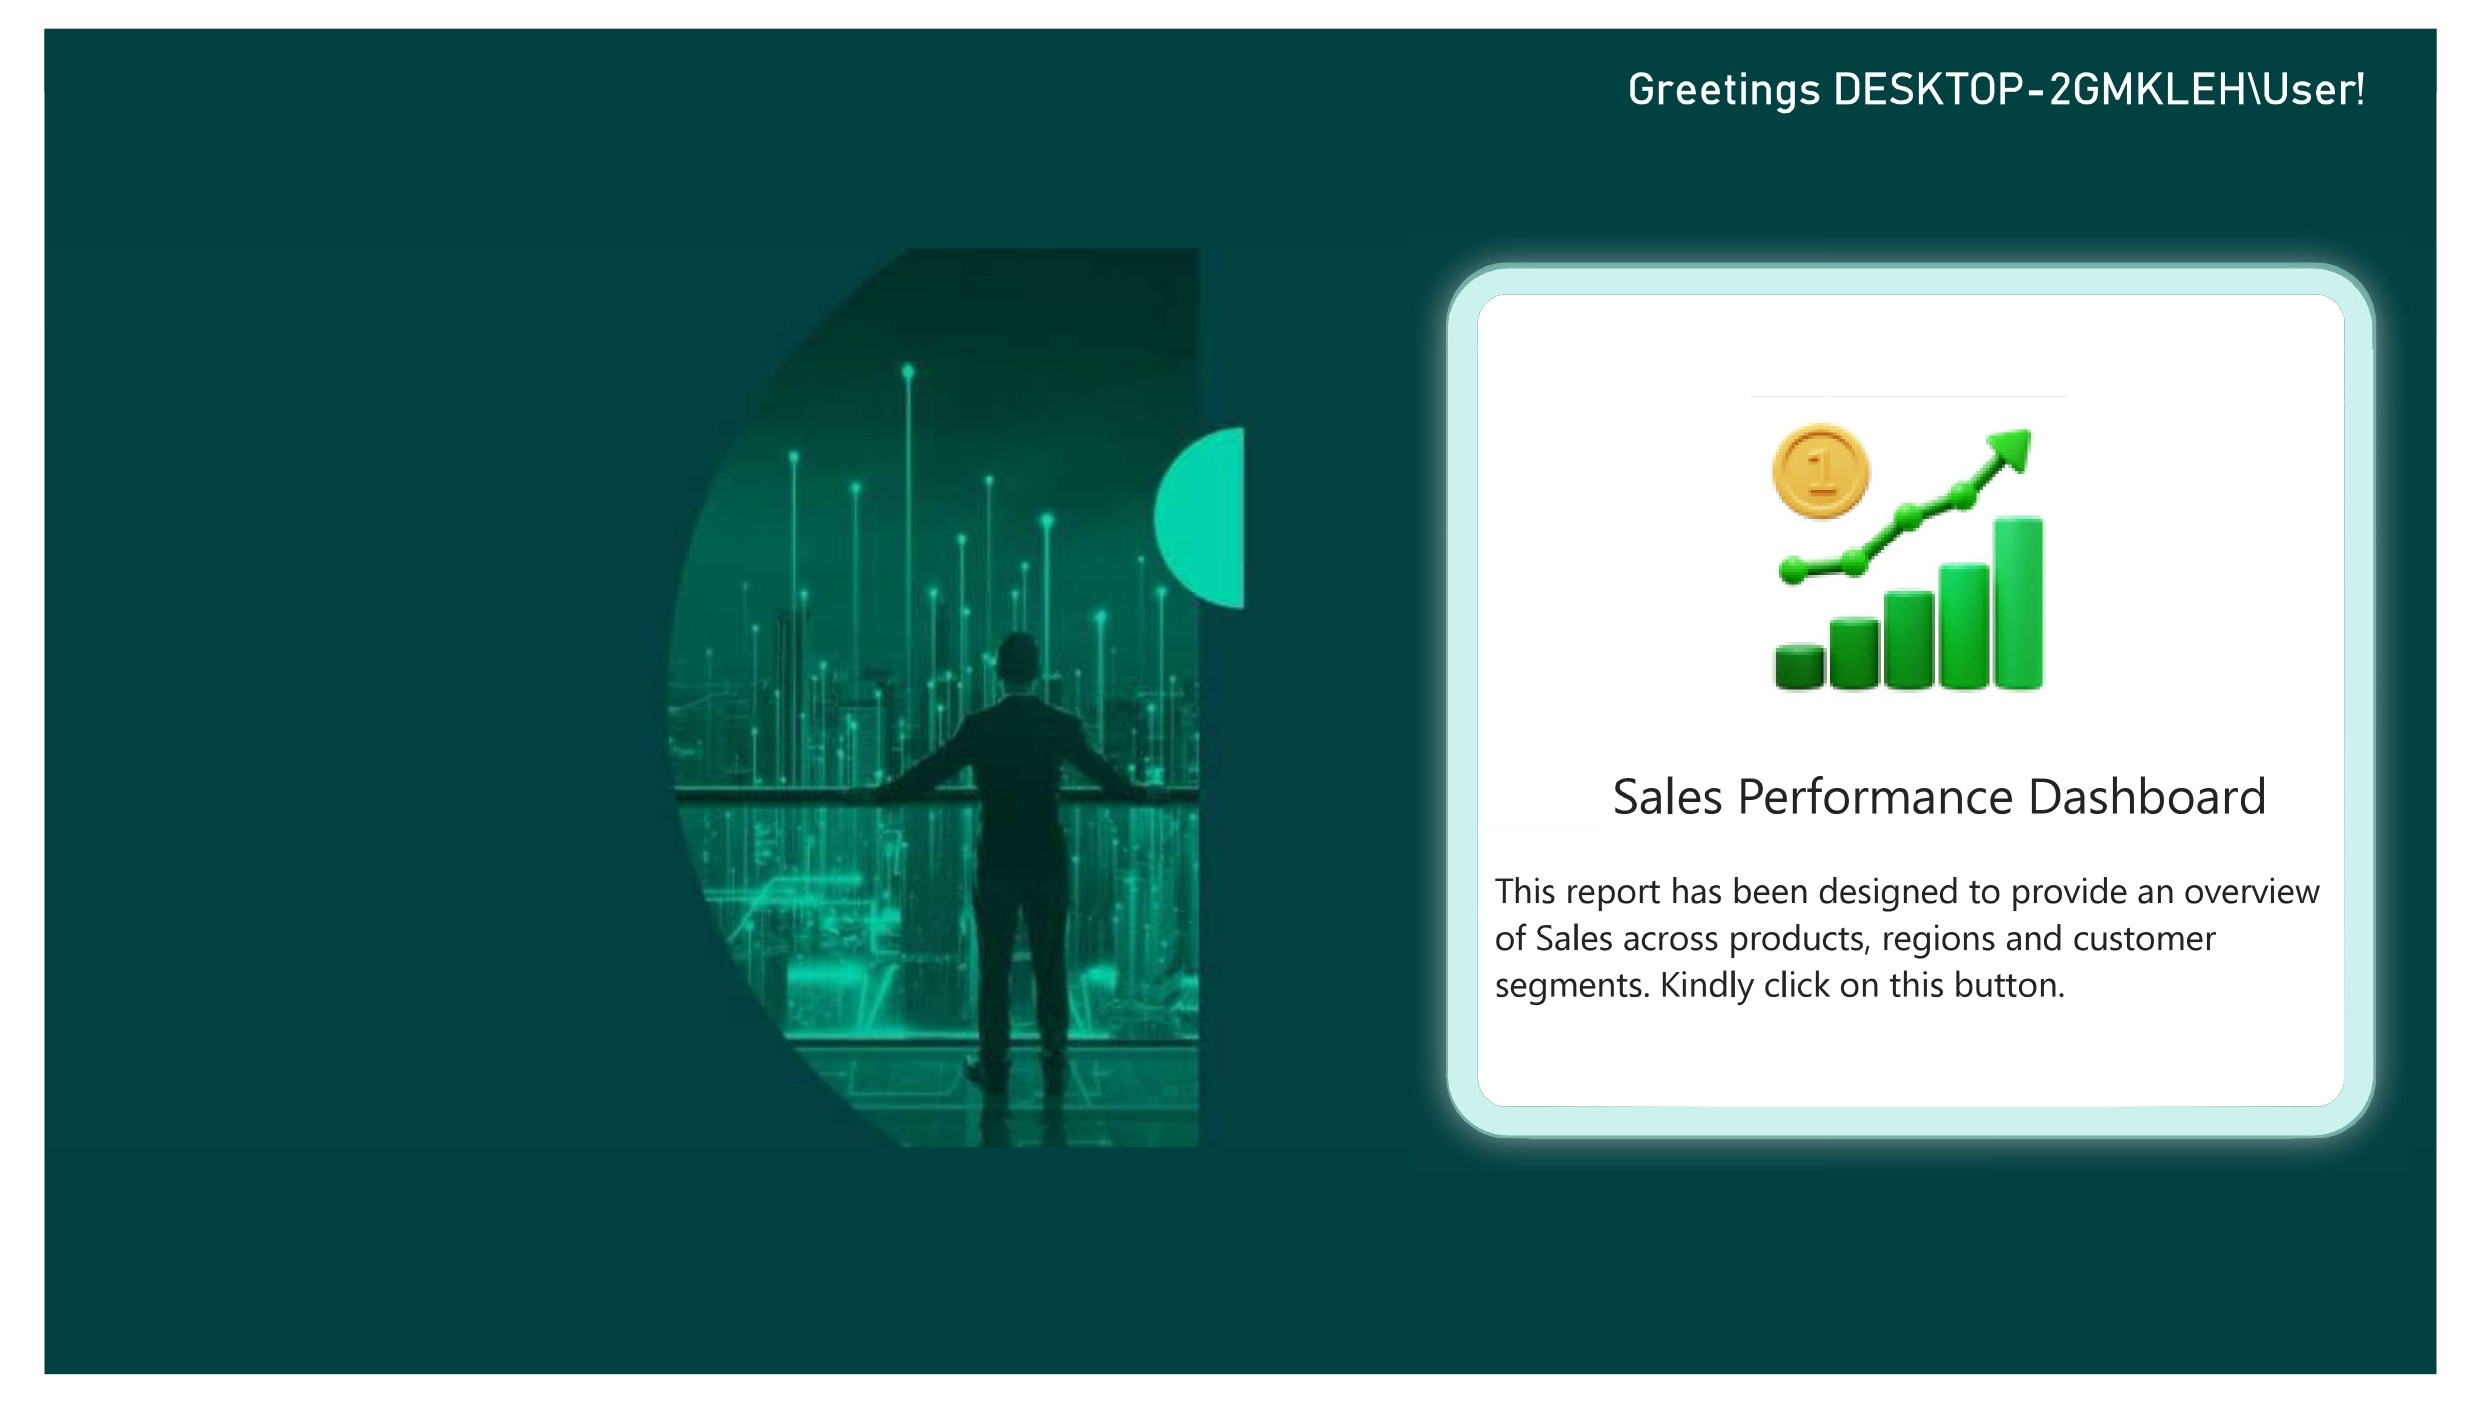

Layout of this report page (visuals, bound fields, positions):
{"tool":"powerbi","page":{"name":"Home Page","canvas":[1280,720],"ordinal":0},"visuals":[{"type":"shape","box":[731.1,107.9,534.5,504.6],"z":0},{"type":"actionButton","box":[750.3,124.6,497.4,469.8],"z":1000},{"type":"textbox","box":[834.2,385.9,395.5,52.7],"z":2000},{"type":"image","box":[908.5,92.3,179.8,379.9],"z":4000},{"type":"card","fields":{"Values":["_Measures.Greeting Text"]},"box":[809.4,1.4,470.3,59.2],"z":5000},{"type":"textbox","box":[770.6,443.4,459,118.7],"z":6000}]}

Visuals, with their boxes in screenshot pixels (x1, y1, x2, y2), scaled from the page's 1280x720 canvas onto the 2481x1401 screenshot:
shape: bbox=[1417, 210, 2453, 1192]
actionButton: bbox=[1454, 242, 2418, 1157]
textbox: bbox=[1617, 751, 2384, 853]
image: bbox=[1761, 180, 2109, 919]
card - _Measures.Greeting Text: bbox=[1569, 3, 2480, 118]
textbox: bbox=[1494, 863, 2383, 1094]
